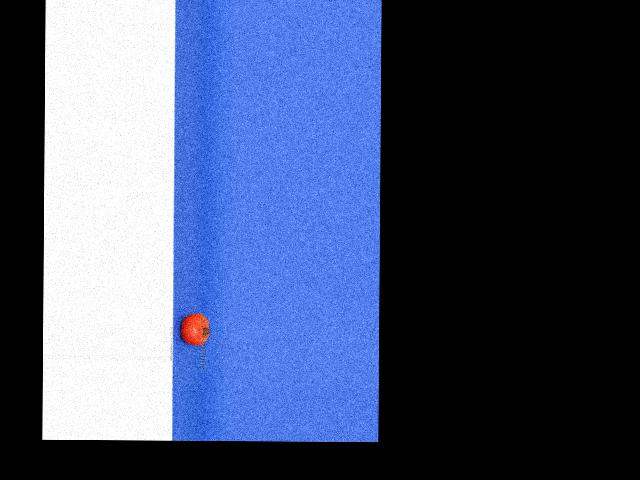tomato: (180, 312, 209, 345)
